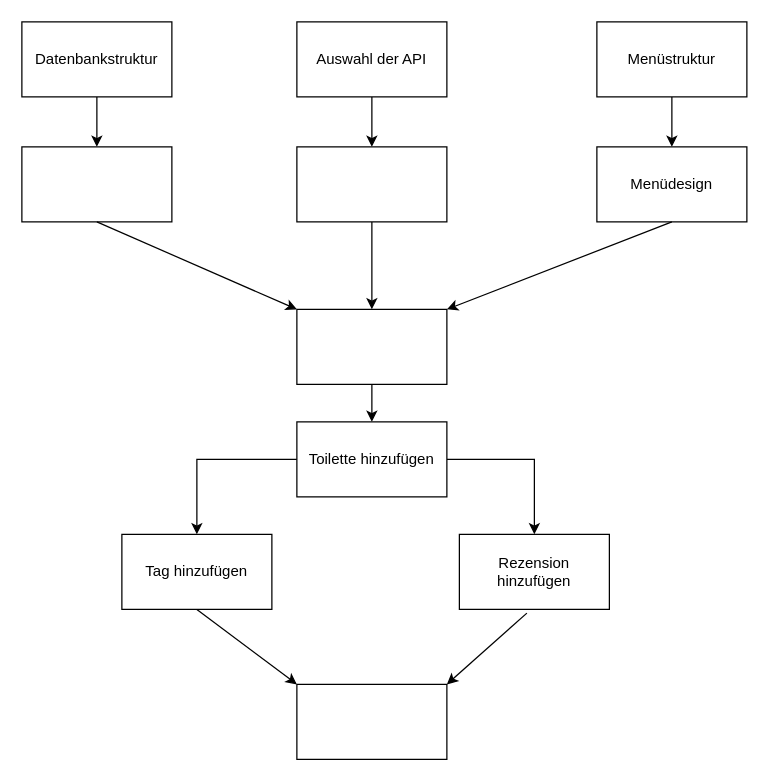
This 769x781 diagram has some shape labels left out. Here are the shapes that lost their labels. From the top down, the box of each, then its label:
(21, 146, 172, 222): Datenbankhandler
(296, 146, 447, 222): API-Einbindung
(296, 308, 447, 384): Kommunikation zwischen DB/API/Menü
(296, 683, 447, 759): Toimaps
